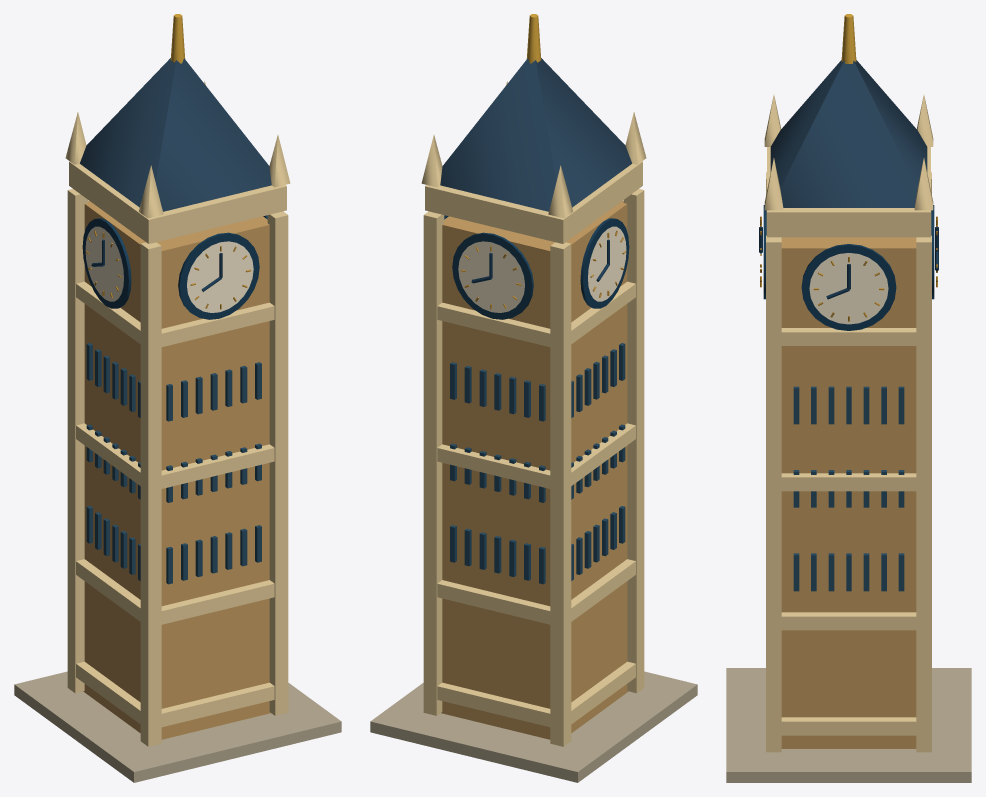
Rendered from elizabeth-tower.glb.
3 renders of one model, left to right at view 1: azimuth 30°, elevation 25°; view 2: azimuth 150°, elevation 25°; view 3: azimuth 270°, elevation 25°, orthographic. The views are drawn at different scales.
Parts seen in each view (by area): view 1: body_C8B48A, body_E3D2AC, roof_4D5D56, base_B8B49D, detail, clock_F1E6CC, clock_43514C, roof_E3D2AC, roof_AF9660; view 2: body_C8B48A, body_E3D2AC, roof_4D5D56, base_B8B49D, detail, clock_F1E6CC, clock_43514C, roof_E3D2AC, roof_AF9660; view 3: body_C8B48A, body_E3D2AC, roof_4D5D56, base_B8B49D, detail, clock_F1E6CC, clock_43514C, roof_E3D2AC, roof_AF9660, clock_434A42.
Boxes of the visible parts, x1=… form: body_C8B48A: x1=83, y1=200, x2=270, y2=739; body_E3D2AC: x1=67, y1=161, x2=288, y2=746; roof_4D5D56: x1=80, y1=58, x2=271, y2=211; base_B8B49D: x1=14, y1=671, x2=341, y2=782; detail: x1=86, y1=343, x2=261, y2=584; clock_F1E6CC: x1=85, y1=226, x2=253, y2=312; clock_43514C: x1=82, y1=215, x2=267, y2=319; roof_E3D2AC: x1=65, y1=81, x2=290, y2=218; roof_AF9660: x1=170, y1=14, x2=185, y2=63; body_C8B48A: x1=441, y1=200, x2=628, y2=739; body_E3D2AC: x1=423, y1=161, x2=644, y2=746; roof_4D5D56: x1=440, y1=58, x2=631, y2=211; base_B8B49D: x1=370, y1=671, x2=697, y2=782; detail: x1=450, y1=343, x2=625, y2=584; clock_F1E6CC: x1=458, y1=226, x2=626, y2=312; clock_43514C: x1=444, y1=215, x2=629, y2=319; roof_E3D2AC: x1=421, y1=81, x2=646, y2=218; roof_AF9660: x1=526, y1=14, x2=541, y2=63; body_C8B48A: x1=781, y1=237, x2=916, y2=748; body_E3D2AC: x1=766, y1=147, x2=931, y2=752; roof_4D5D56: x1=770, y1=60, x2=927, y2=207; base_B8B49D: x1=726, y1=668, x2=971, y2=782; detail: x1=793, y1=386, x2=904, y2=591; clock_F1E6CC: x1=809, y1=253, x2=888, y2=324; clock_43514C: x1=763, y1=205, x2=934, y2=330; roof_E3D2AC: x1=764, y1=94, x2=933, y2=210; roof_AF9660: x1=841, y1=14, x2=856, y2=63; clock_434A42: x1=759, y1=226, x2=938, y2=299.
Size of the model in its own units: 1 by 3.22 by 1.
